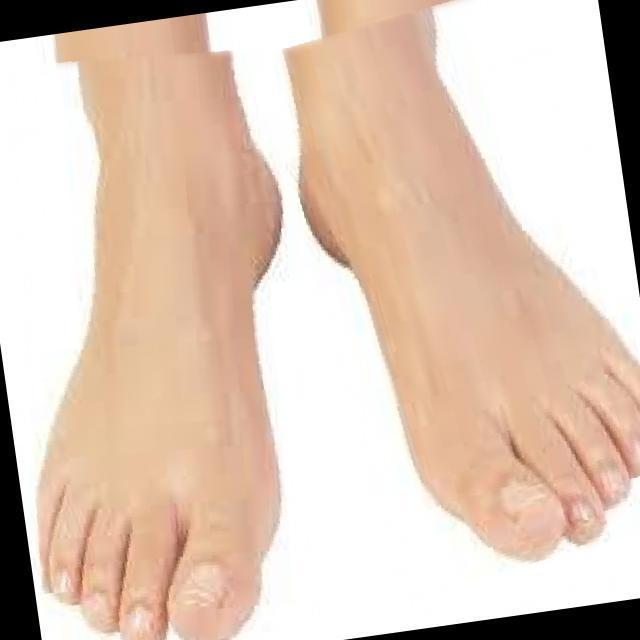No_Shoes: (295, 54, 627, 544), (26, 57, 277, 640)
